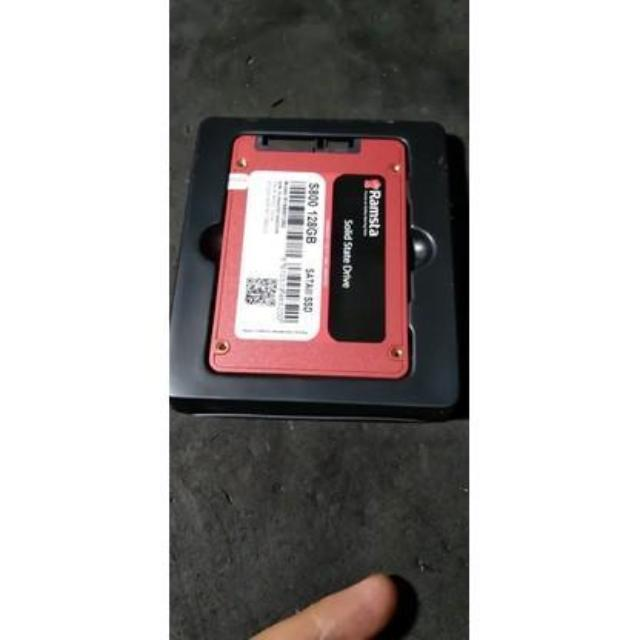DISK: (210, 123, 412, 386)
